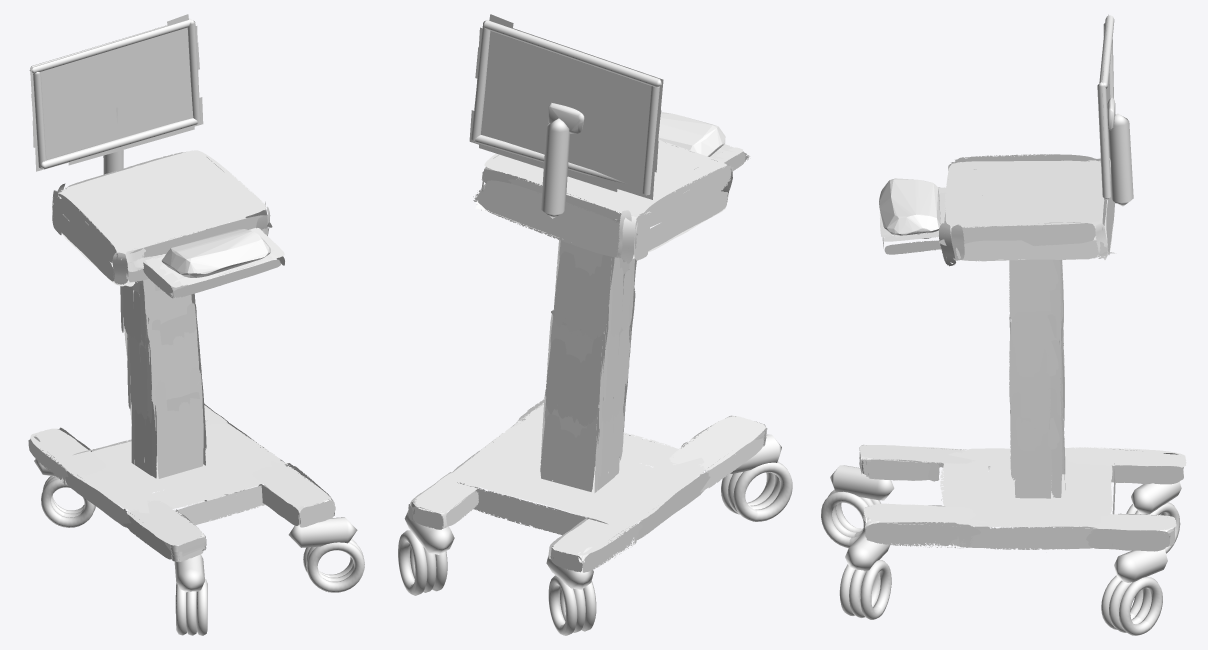
File: MedicalCart.fbx
3 views of the same model, side by side, from view 1: azimuth 30°, elevation 25°; view 2: azimuth 150°, elevation 25°; view 3: azimuth 270°, elevation 25° (orthographic). The views are drawn at different scales.
Visible parts, largest first — view 1: brush_Gouache_g0_b0, brush_Charcoal_g0_b0, brush_Icing_g0_b0, brush_TubeToonInverted_g0_b0, brush_MatteHull_g0_b0; view 2: brush_Gouache_g0_b0, brush_Charcoal_g0_b0, brush_Icing_g0_b0, brush_TubeToonInverted_g0_b0, brush_MatteHull_g0_b0, brush_SmoothHull_g0_b0; view 3: brush_Gouache_g0_b0, brush_Icing_g0_b0, brush_MatteHull_g0_b0, brush_TubeToonInverted_g0_b0.
Boxes of the visible parts, <box> form: brush_Gouache_g0_b0: <box>28,150,335,561</box>; brush_Charcoal_g0_b0: <box>30,14,203,171</box>; brush_Icing_g0_b0: <box>34,107,364,635</box>; brush_TubeToonInverted_g0_b0: <box>29,18,200,169</box>; brush_MatteHull_g0_b0: <box>161,229,270,277</box>; brush_Gouache_g0_b0: <box>408,139,767,572</box>; brush_Charcoal_g0_b0: <box>469,14,663,199</box>; brush_Icing_g0_b0: <box>398,118,792,635</box>; brush_TubeToonInverted_g0_b0: <box>471,20,661,195</box>; brush_MatteHull_g0_b0: <box>658,112,725,156</box>; brush_SmoothHull_g0_b0: <box>548,102,584,133</box>; brush_Gouache_g0_b0: <box>859,154,1186,551</box>; brush_Icing_g0_b0: <box>821,113,1181,635</box>; brush_MatteHull_g0_b0: <box>879,178,940,238</box>; brush_TubeToonInverted_g0_b0: <box>1097,15,1114,199</box>.
Bounding box in the file's own units: 1.29 × 2.78 × 1.76.
Materials: 6 (2 with a texture image).
